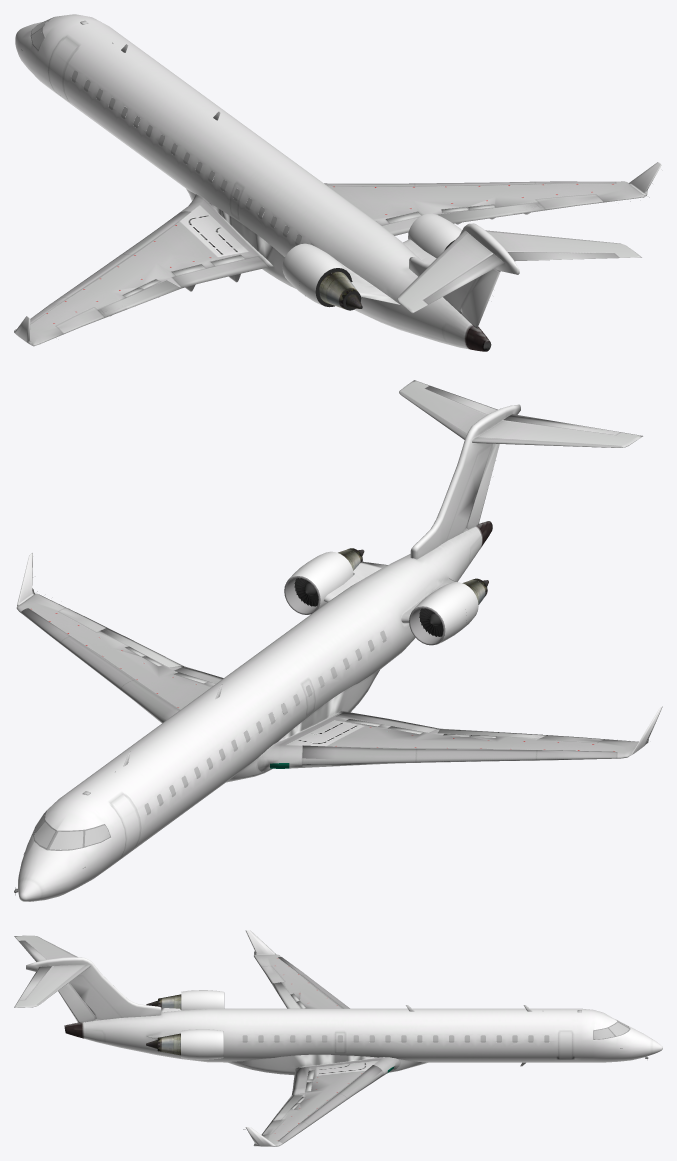
Rendered from CRJ7.glb.
The picture shows the model from 3 angles, top to bottom: view 1: azimuth 30°, elevation 25°; view 2: azimuth 150°, elevation 25°; view 3: azimuth 270°, elevation 25°; orthographic projection. The views are drawn at different scales.
Visible parts, largest first — view 1: Reverser_001, CockpitWindows, Nozzle_001; view 2: Reverser_001, CockpitWindows, Nozzle_001; view 3: Reverser_001, CockpitWindows, Nozzle_001.
Part boxes in pixels (bbox=[...]): Reverser_001: bbox=[14, 14, 661, 351]; CockpitWindows: bbox=[31, 18, 314, 245]; Nozzle_001: bbox=[319, 271, 361, 309]; Reverser_001: bbox=[16, 380, 662, 901]; CockpitWindows: bbox=[34, 630, 386, 849]; Nozzle_001: bbox=[284, 548, 488, 645]; Reverser_001: bbox=[14, 930, 662, 1146]; CockpitWindows: bbox=[242, 1019, 628, 1042]; Nozzle_001: bbox=[146, 992, 224, 1057].
Size of the model in its own units: 23.29 by 6.09 by 32.46.
Materials: 7 (2 with a texture image).
